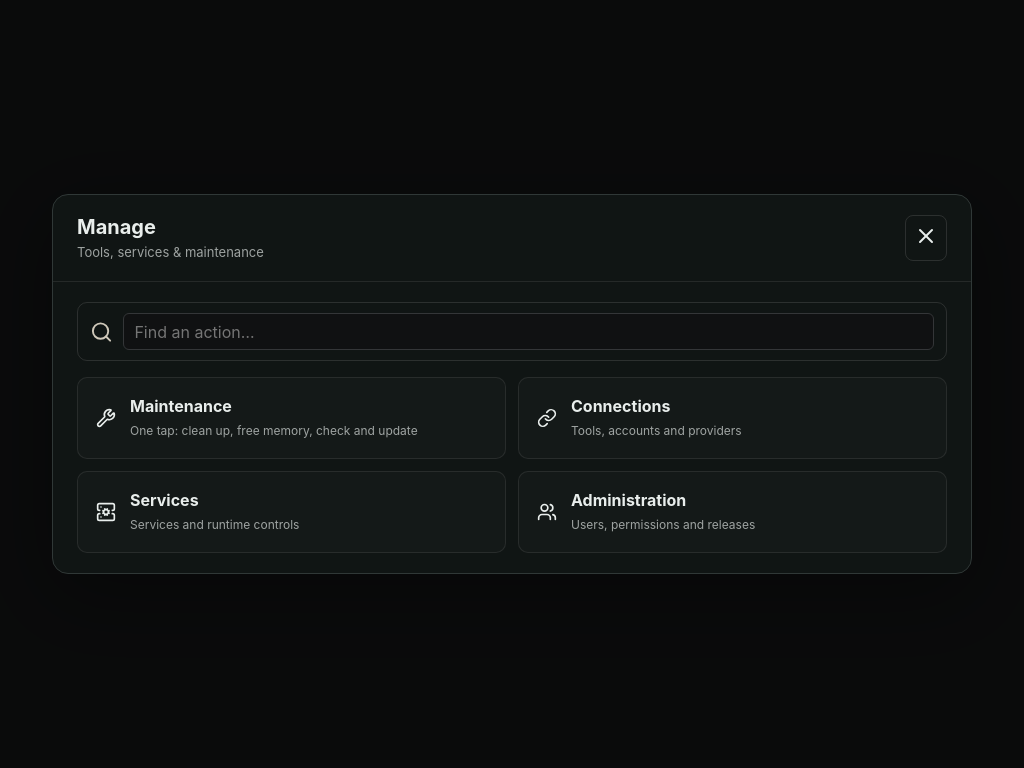
Test: ServerActionsMenu › renders section headers and category groups correctly
Expected: the text "Maintenance" is shown, [130,396,232,416]
Expected: the text "Connections" is shown, [571,396,670,416]
Step 1. Click the text "Services" → {"x": 164, "y": 500}, box [130,490,199,510]
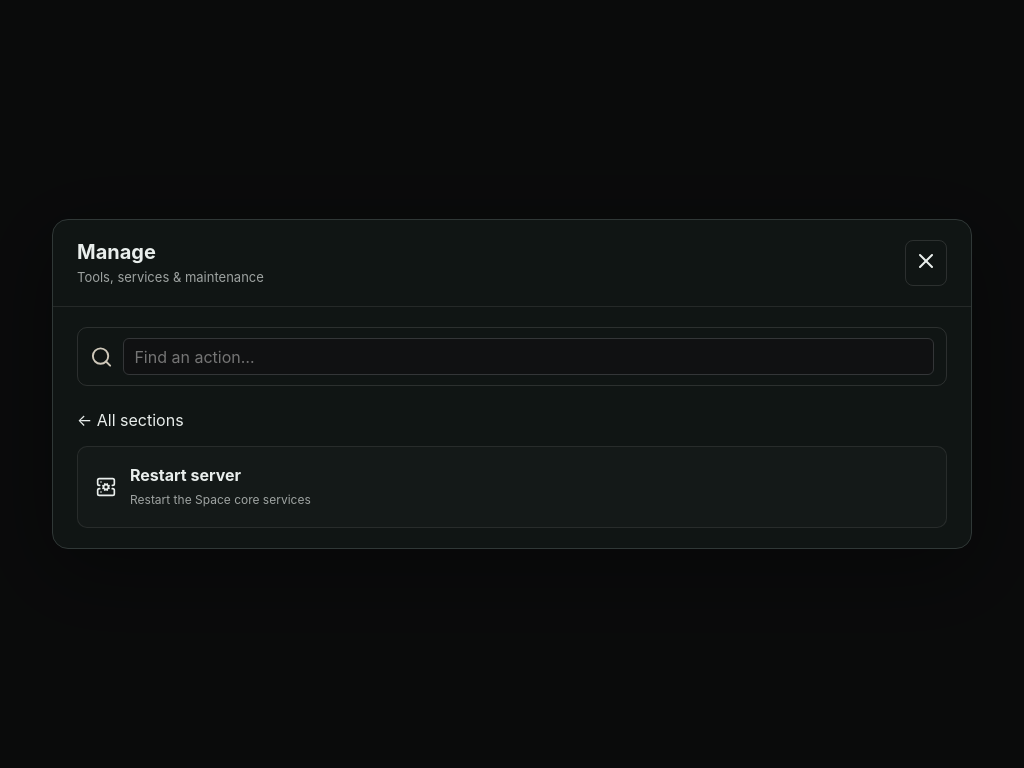
Result: the text "Restart server" is shown at [130,465,241,485]
Result: the button "Space & CLI maintenance" is gone
Step 2. Click the button "← All sections" → {"x": 130, "y": 424}, box [77,402,184,446]
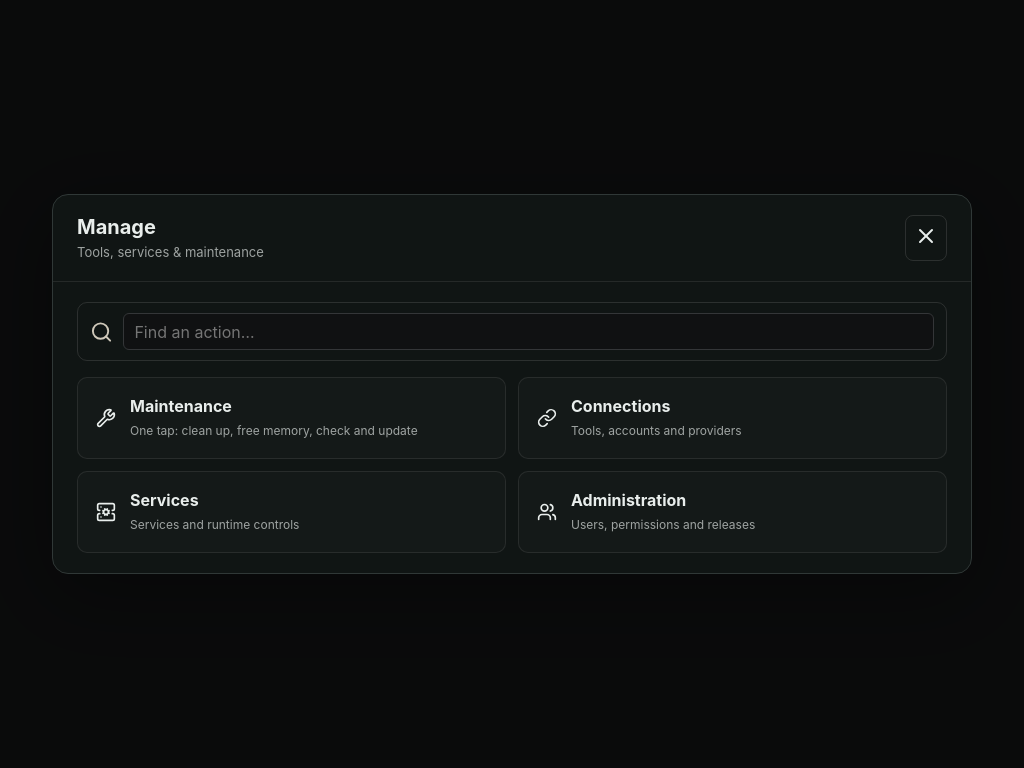
Step 3. Click the text "Maintenance" → {"x": 181, "y": 406}, box [130,396,232,416]
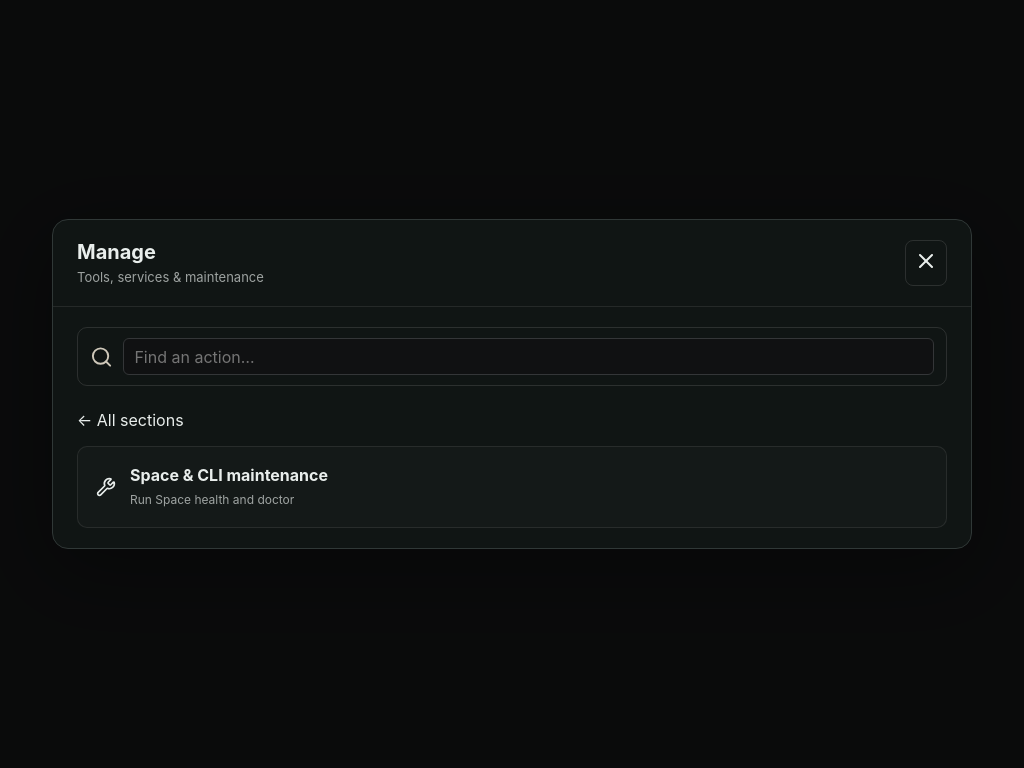
Result: the text "Space & CLI maintenance" is shown at [130,465,328,485]
